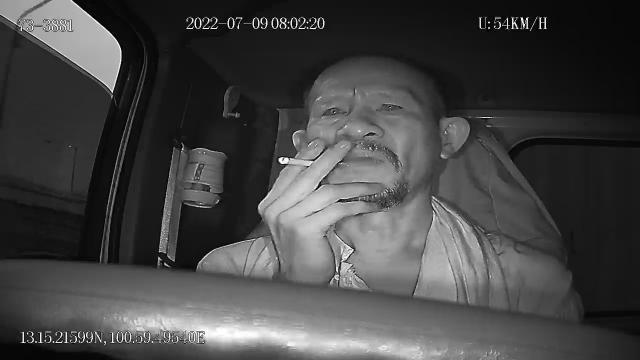SafeDriving: (372, 93, 411, 118), (314, 99, 352, 124)
Smoking: (278, 157, 314, 167)
